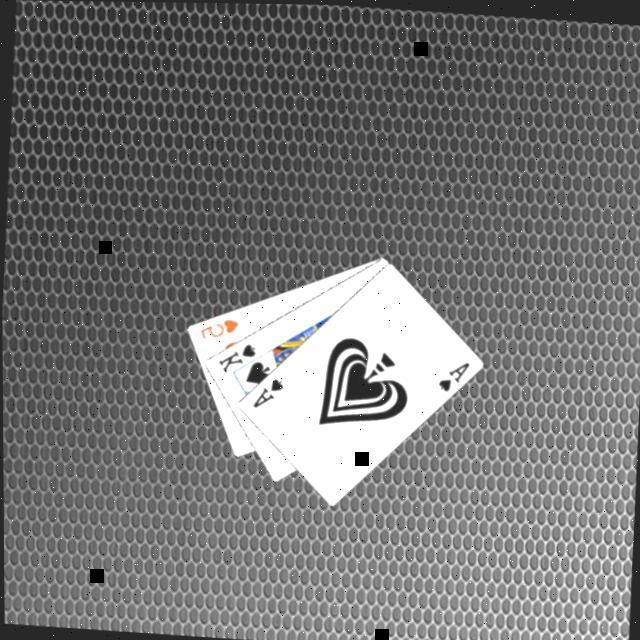5H: (194, 314, 240, 346)
AS: (432, 357, 470, 397), (247, 374, 285, 412)
KS: (212, 339, 257, 378)
